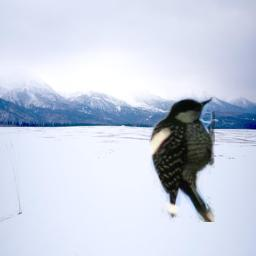Woodpecker: (149, 97, 215, 222)
